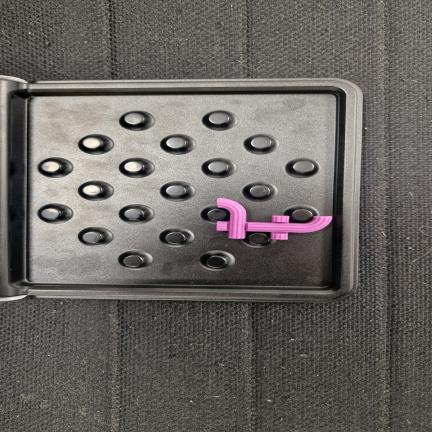H_Purple: (217, 199, 332, 239)
board: (0, 79, 362, 301)
hinge: (0, 80, 31, 301)
pin: (292, 160, 315, 174), (290, 209, 313, 223), (248, 185, 271, 198), (123, 112, 145, 125), (208, 112, 230, 125), (250, 136, 272, 149), (165, 136, 187, 149), (81, 231, 103, 244), (123, 255, 145, 268), (123, 208, 146, 220), (206, 255, 227, 268), (82, 137, 103, 149), (207, 161, 228, 173), (165, 185, 186, 197), (82, 184, 103, 196), (40, 208, 61, 220), (165, 232, 186, 244), (40, 161, 61, 172), (123, 161, 144, 172), (207, 209, 226, 221), (249, 233, 269, 244)
